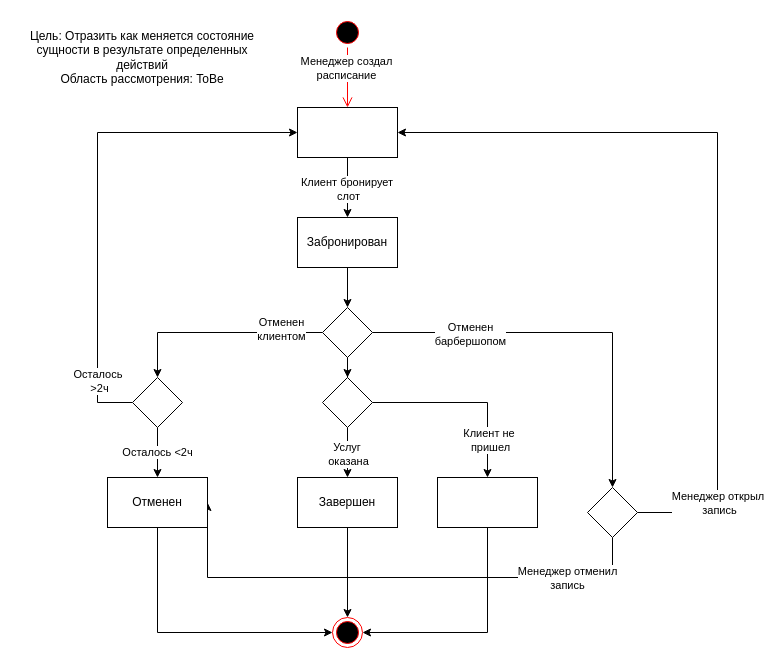
Some shapes in this 784 by 665 pixel diagram are drawn without their labels. Each missing label, with the centre of its shape:
"Не оказана" belongs at point (487, 502).
"Создан" belongs at point (347, 132).
